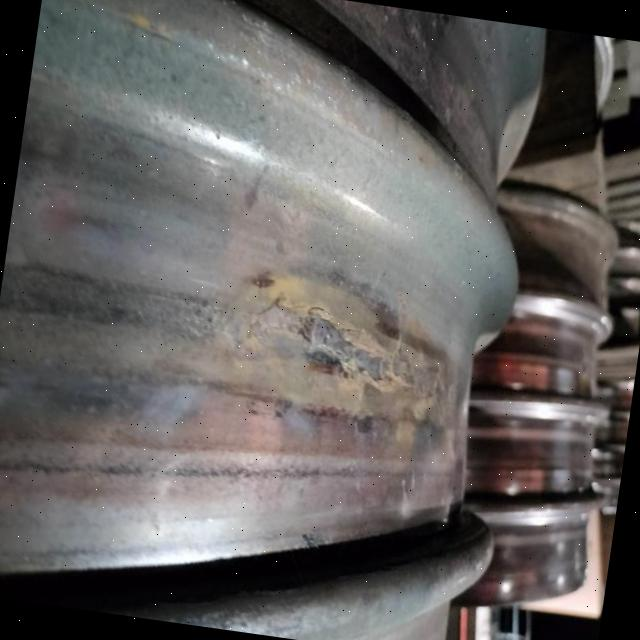Peeling: (246, 289, 454, 418)
